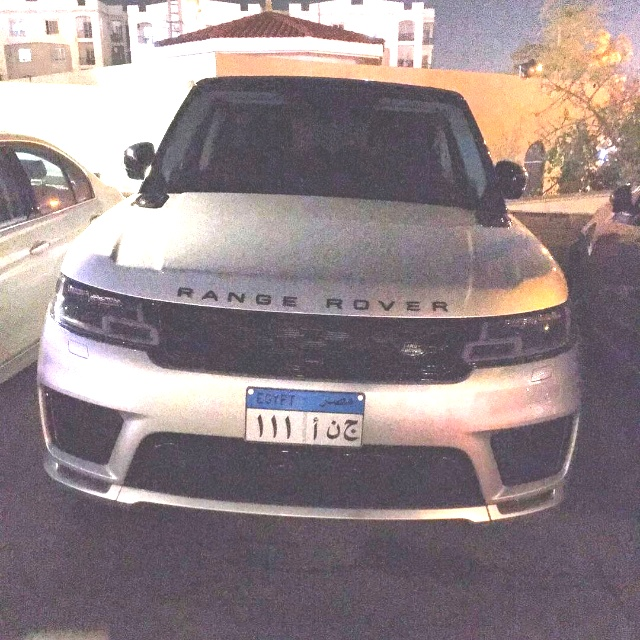License Plate: (239, 383, 369, 452)
